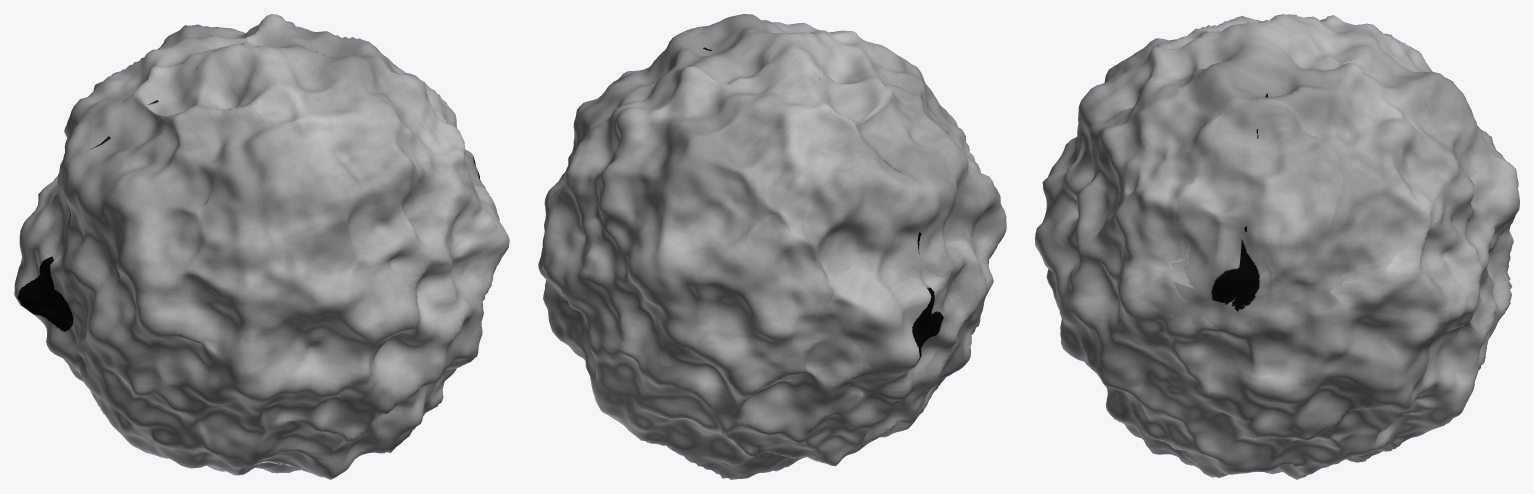
The model's file is Astroid.gltf.
3 views of the same model, side by side, from view 1: azimuth 30°, elevation 25°; view 2: azimuth 150°, elevation 25°; view 3: azimuth 270°, elevation 25° (orthographic). The views are drawn at different scales.
Visible parts, largest first — view 1: Cube; view 2: Cube; view 3: Cube.
Boxes of the visible parts, bbox=[...] form: Cube: bbox=[14, 14, 509, 479]; Cube: bbox=[538, 14, 1006, 479]; Cube: bbox=[1035, 14, 1519, 479].
Size of the model in its own units: 1.79 by 1.82 by 1.84.
1 material, 1 textured.
